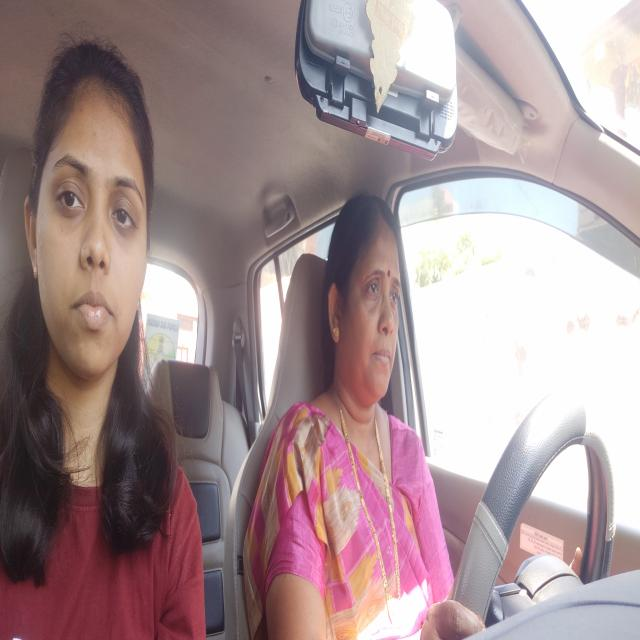person: (23, 30, 157, 386), (325, 182, 411, 460)
